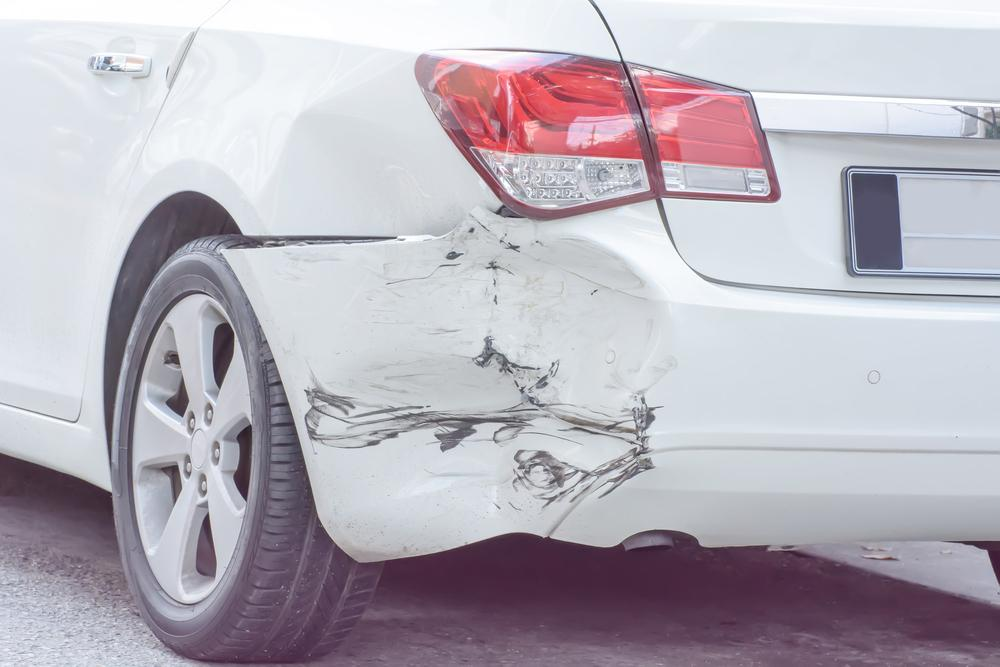dent: (314, 230, 668, 532), (259, 113, 480, 234)
